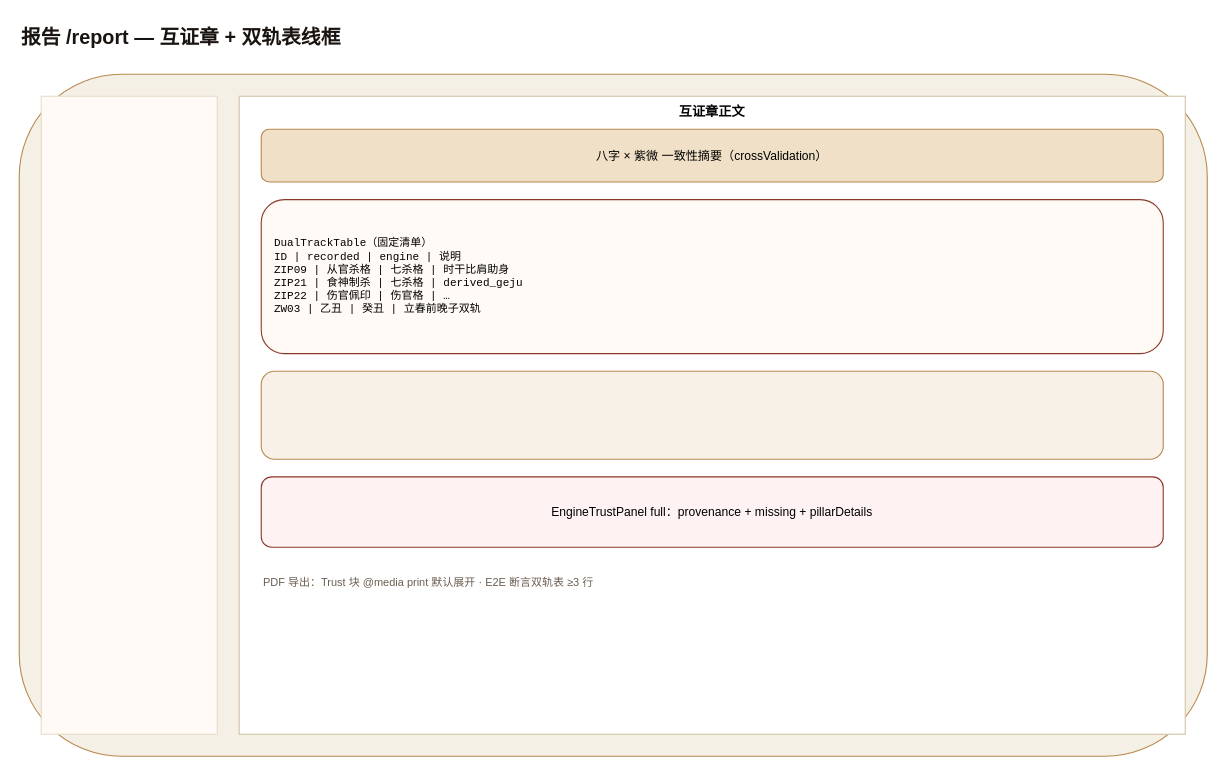
This 1227x776 diagram has some shape labels left out. Each missing label, with the centre of its shape:
"iztro 交叉核验 + 双轨命宫对照表 [ 一键 hour 右弼 ] 按钮" goes at point 711,414.
"章节目录 封面 口径 档案 ● 互证 八字 大运 紫微 十二宫 综合 批注" goes at point 128,414.
